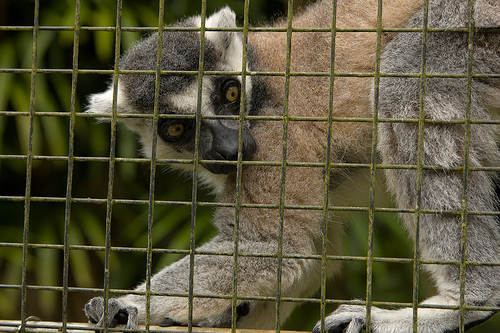cat: (82, 2, 499, 332)
